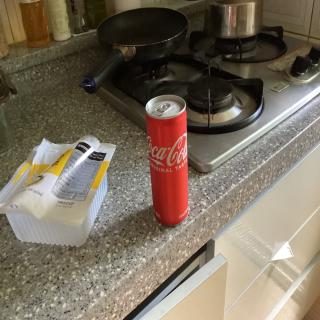cocacola: (146, 94, 191, 227)
